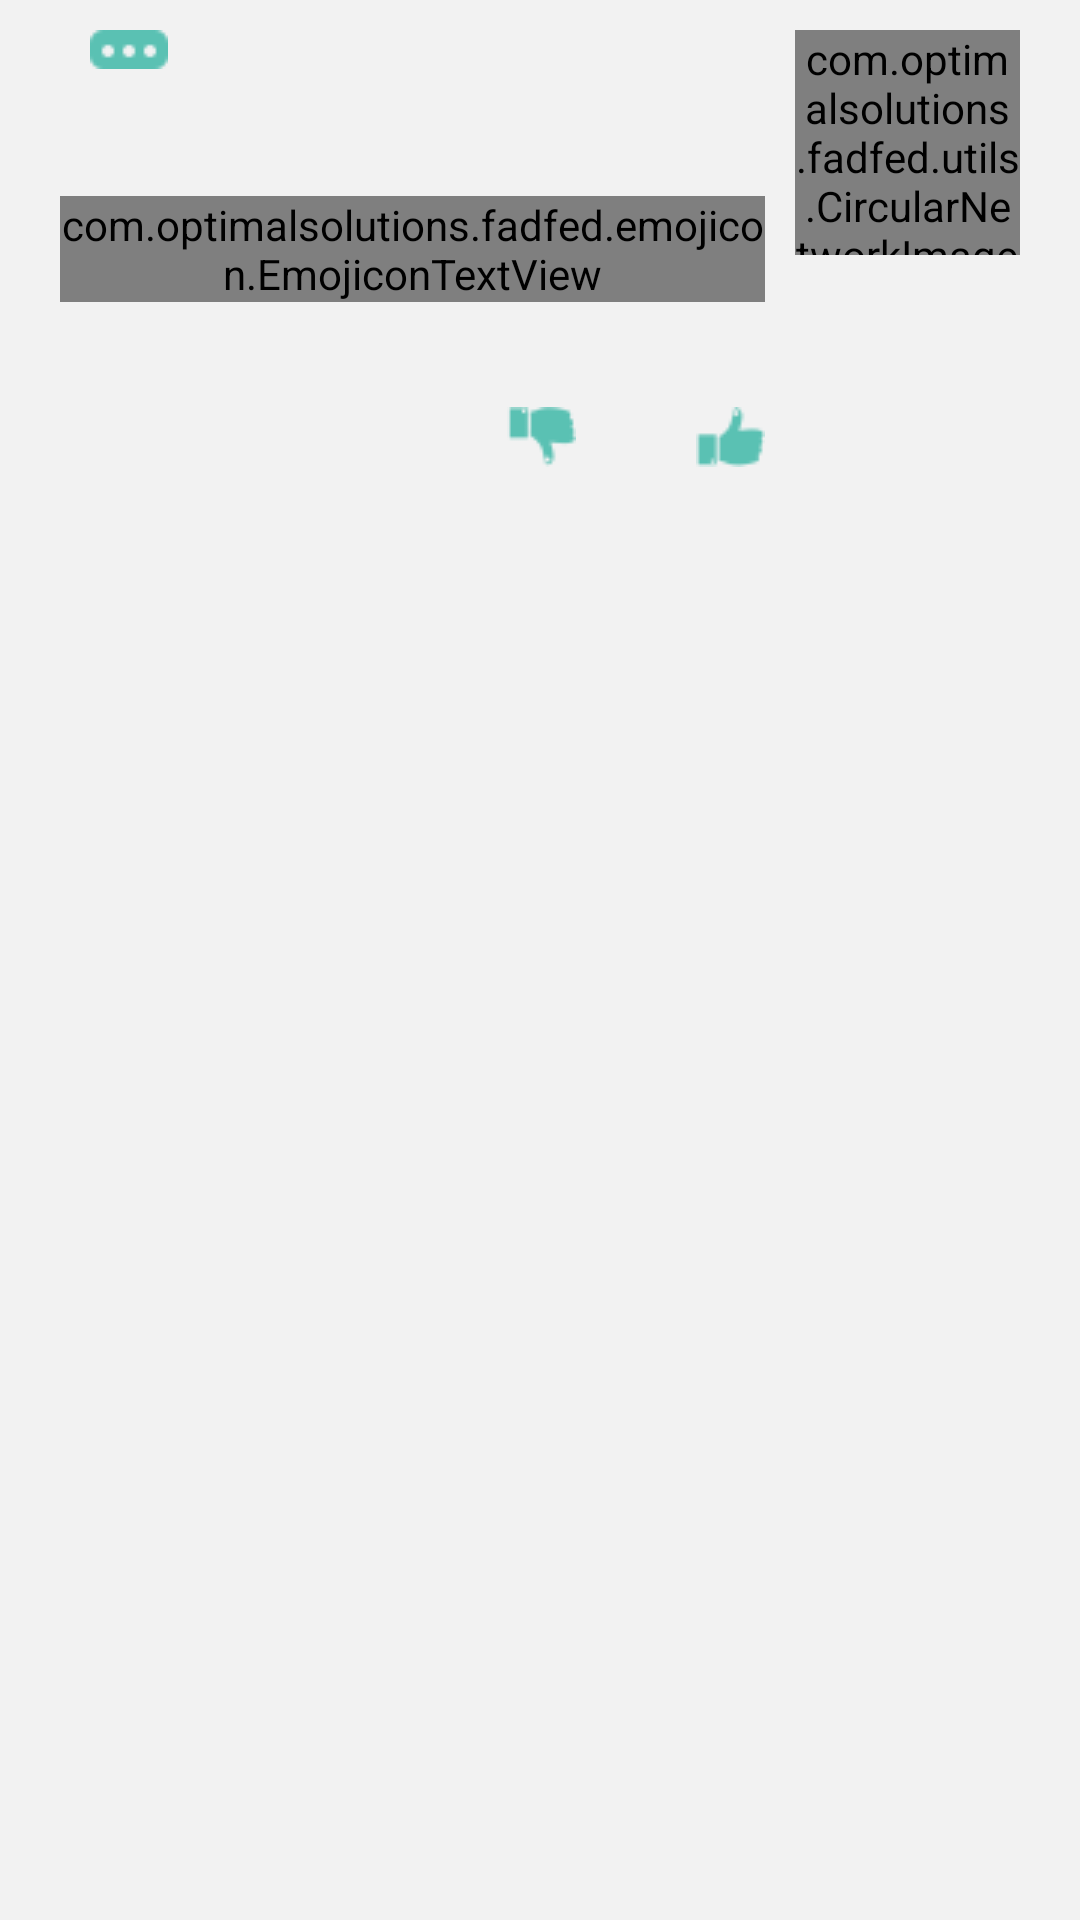

Point at icon controls on the screen. Image size 1080w x 1920h, points as point (x, y).
like unpushed: point (730, 437)
morebut: point (129, 49)
unlike unpushed: point (542, 436)
